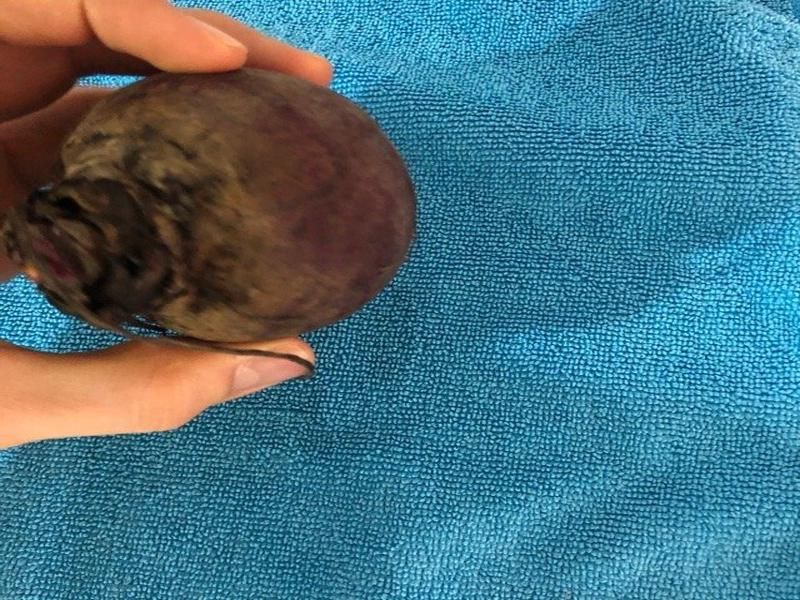Beet: (8, 68, 415, 377)
